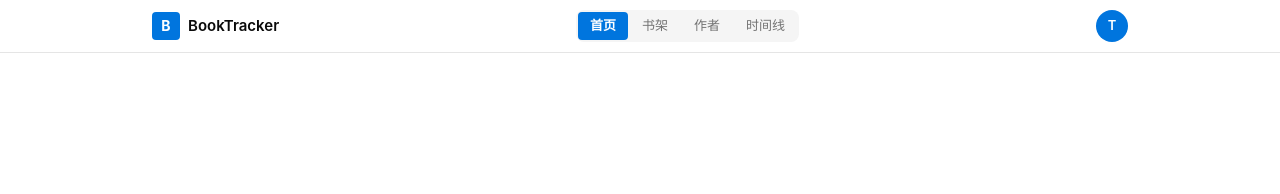
Navbar authenticated › opens dropdown on avatar click
Click the button titled "用户菜单": (1112,26) [1096,10,1128,42]
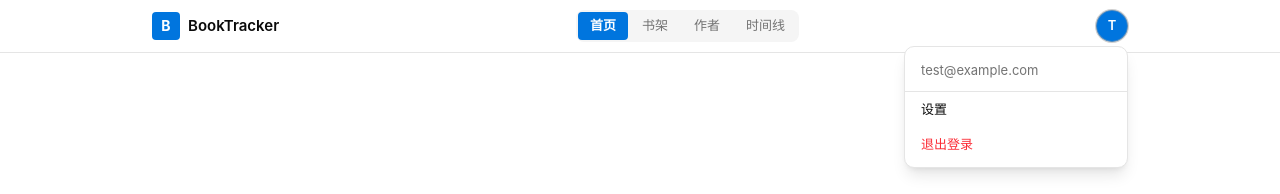
Result: the link "设置" is shown at [921,100,947,116]
Result: the button "退出登录" is shown at [905,127,1127,162]
